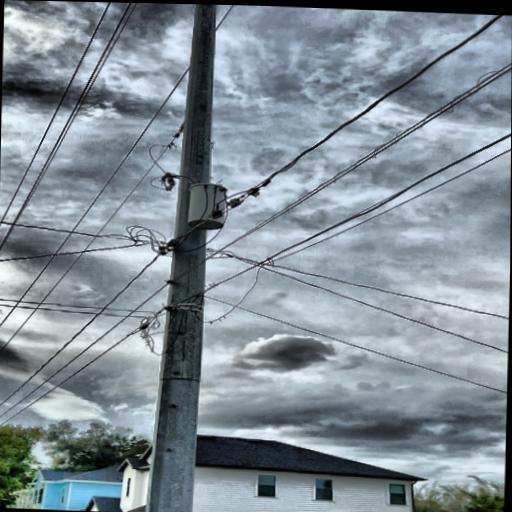pole: (125, 3, 254, 512)
transformer: (181, 180, 235, 233)
